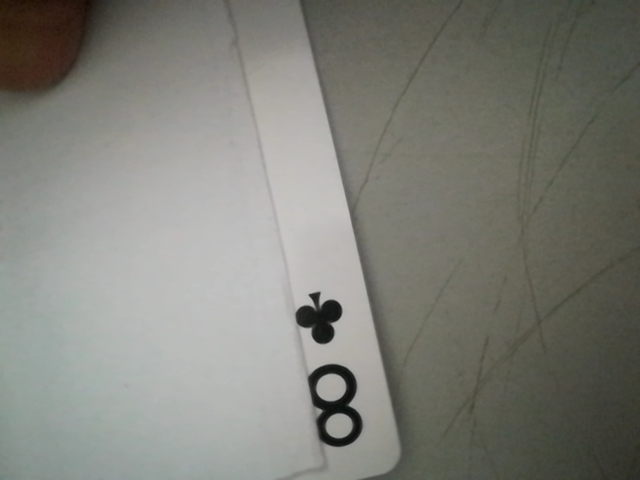mh 8: (284, 281, 387, 460)
